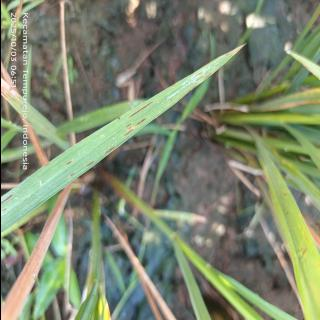Bercak-Cokelat-Sempit: (126, 101, 153, 120), (190, 70, 202, 82), (102, 145, 115, 155), (122, 127, 135, 137), (84, 158, 95, 169), (135, 117, 147, 127), (122, 121, 134, 130), (67, 171, 77, 179), (64, 159, 73, 167)
